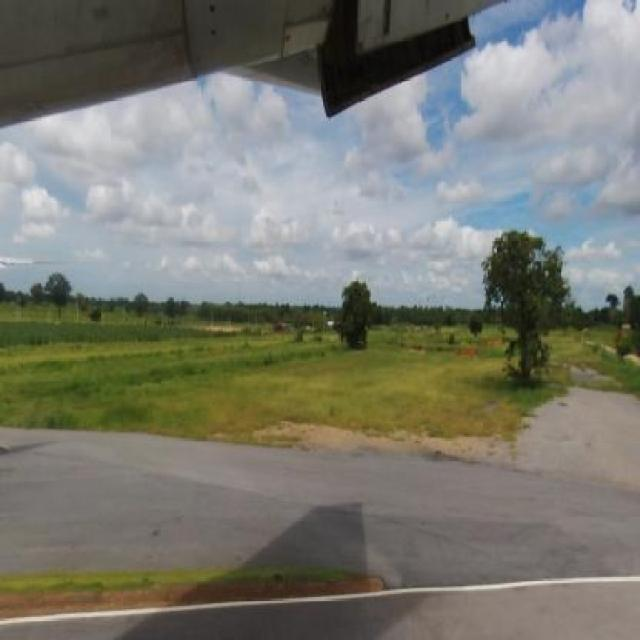Rust: (112, 3, 202, 86), (283, 3, 340, 35)
